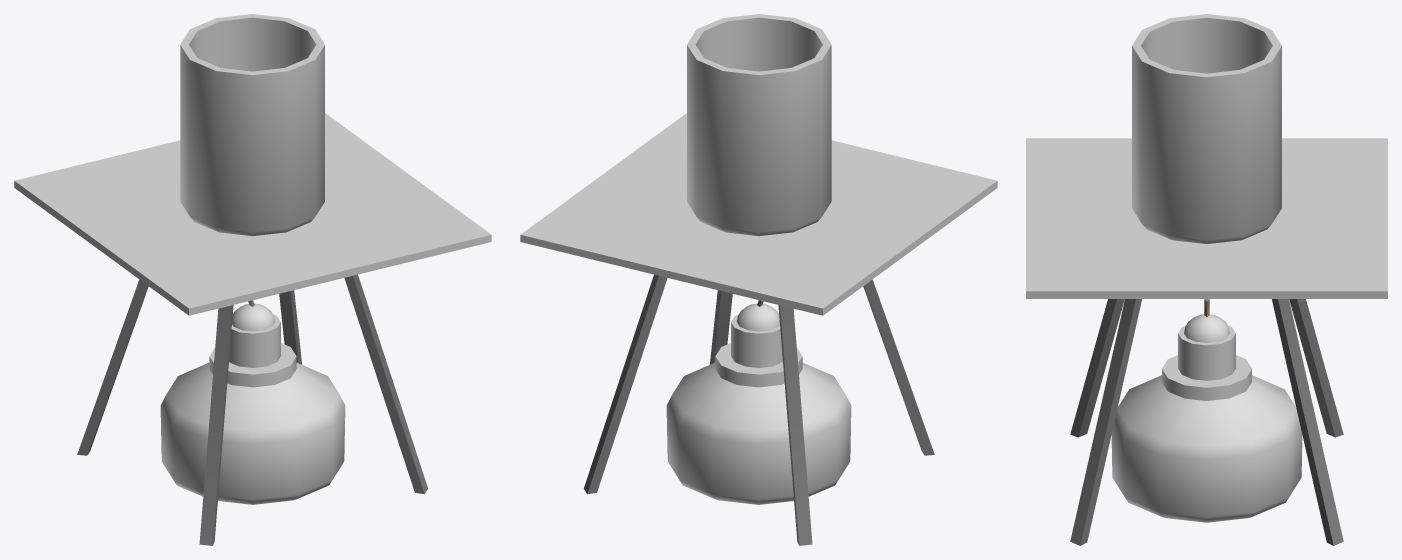
Rendered from AlcoholLamp.fbx.
The picture shows the model from 3 angles, left to right: view 1: azimuth 30°, elevation 25°; view 2: azimuth 150°, elevation 25°; view 3: azimuth 270°, elevation 25°; orthographic projection. The views are drawn at different scales.
Visible parts, largest first — view 1: AlcoholLamp_Glass, AlcoholLamp; view 2: AlcoholLamp_Glass, AlcoholLamp; view 3: AlcoholLamp_Glass, AlcoholLamp.
Part boxes in pixels (x1,y1,x2,y2): AlcoholLamp_Glass: [14, 14, 491, 504]; AlcoholLamp: [77, 274, 427, 545]; AlcoholLamp_Glass: [520, 14, 997, 504]; AlcoholLamp: [584, 274, 934, 545]; AlcoholLamp_Glass: [1026, 14, 1387, 522]; AlcoholLamp: [1070, 299, 1343, 545].
Bounding box in the file's own units: 40.17 × 54.2 × 40.17.
